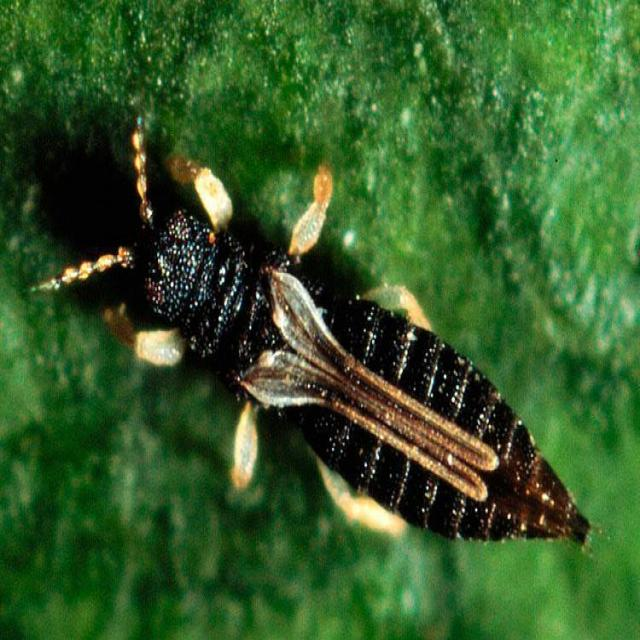Thrip-Adult-: (41, 84, 603, 568)
